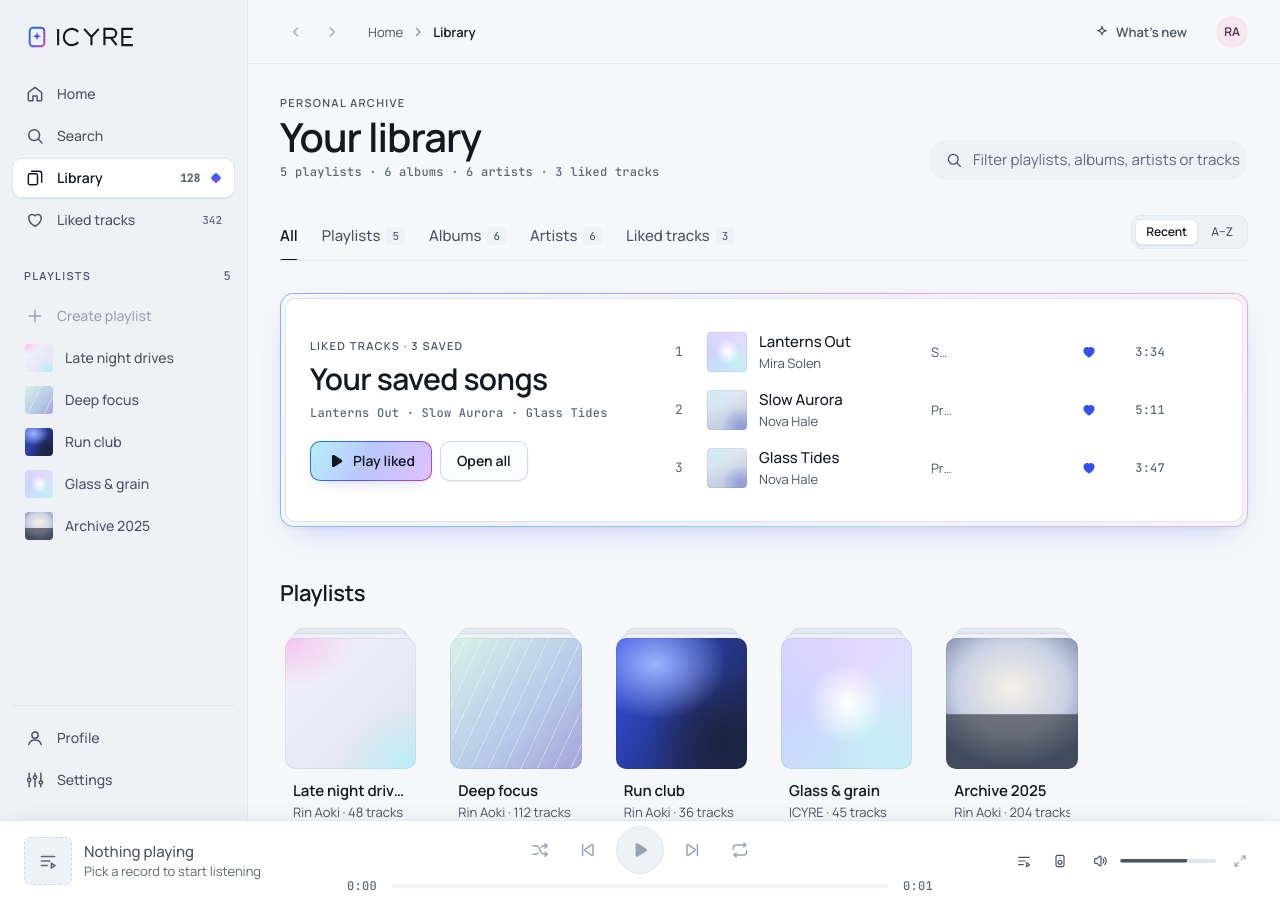
Test: Library screen › plays liked tracks from the spotlight and updates the global player
Expected: the heading "Your saved songs" is shown, [310,358,548,399]
Click the button "Play liked" at point(371, 461), box [310,441,432,481]
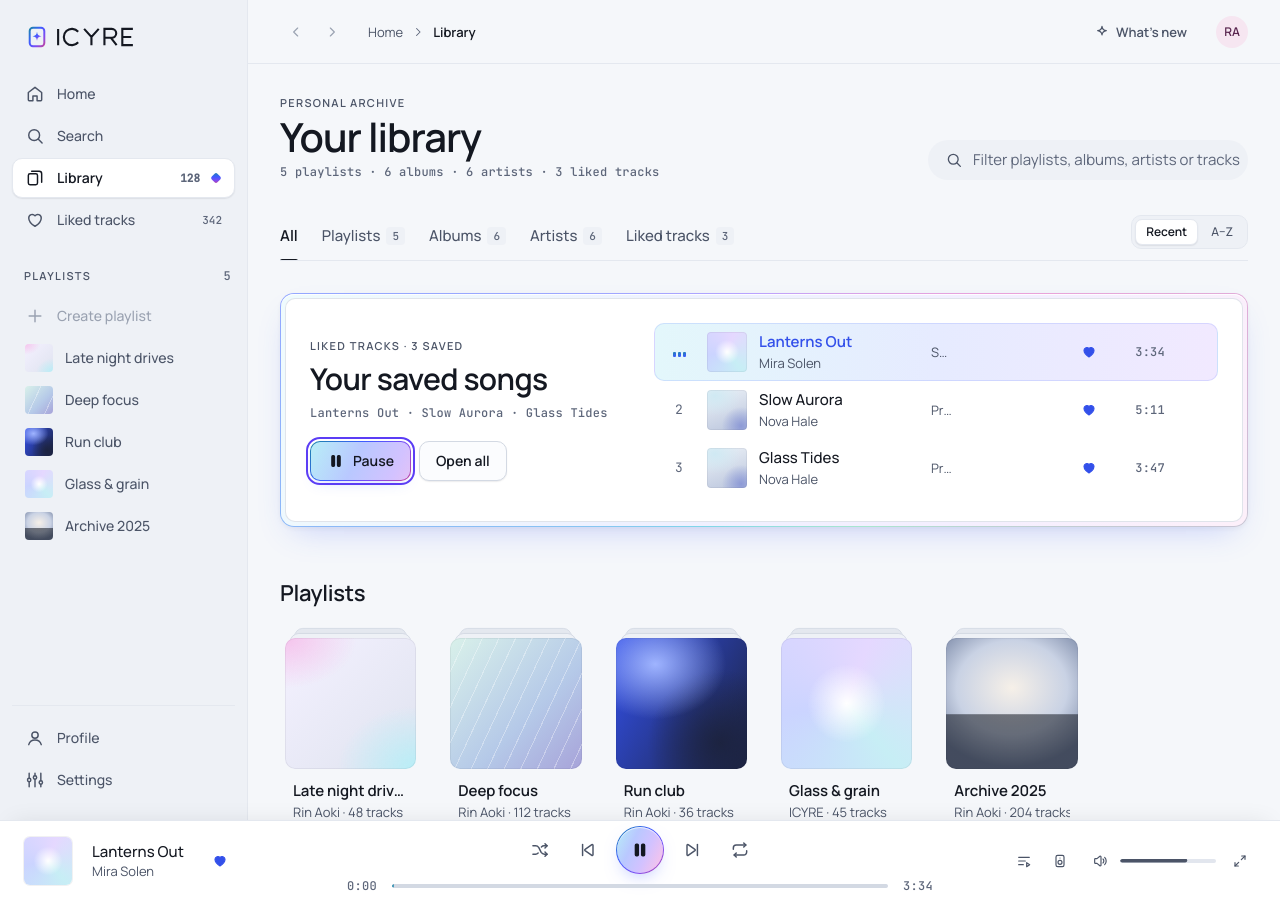
Result: the button "Pause" is shown at [310,441,411,481]
